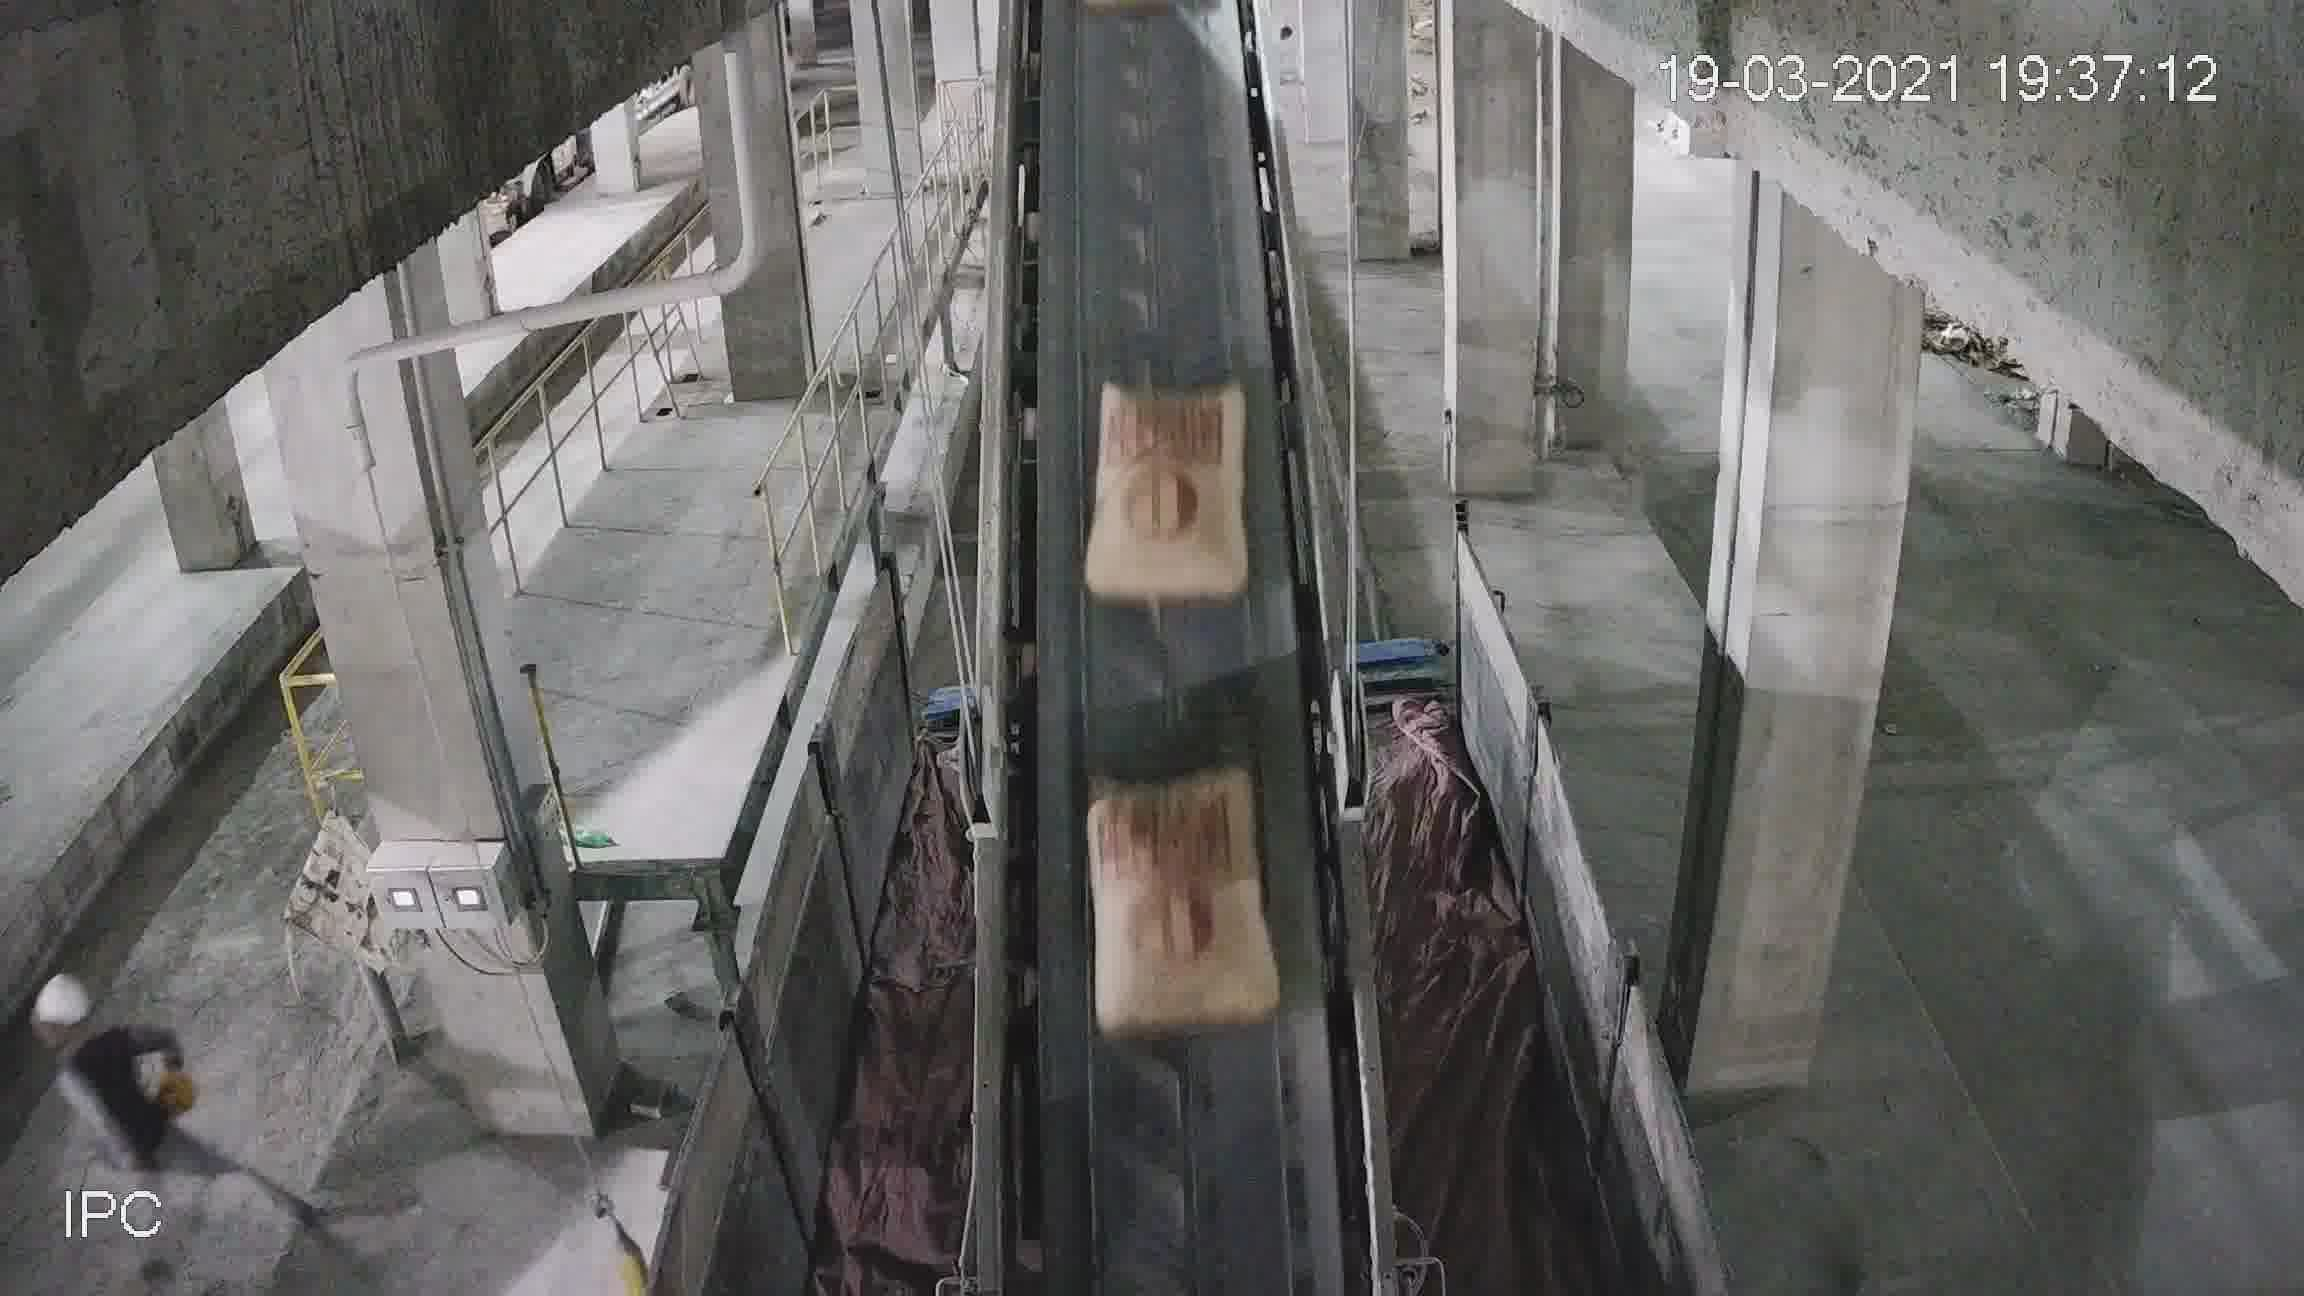bag: (1095, 772, 1268, 1032), (1090, 389, 1252, 606)
belt: (987, 21, 1366, 1128)
